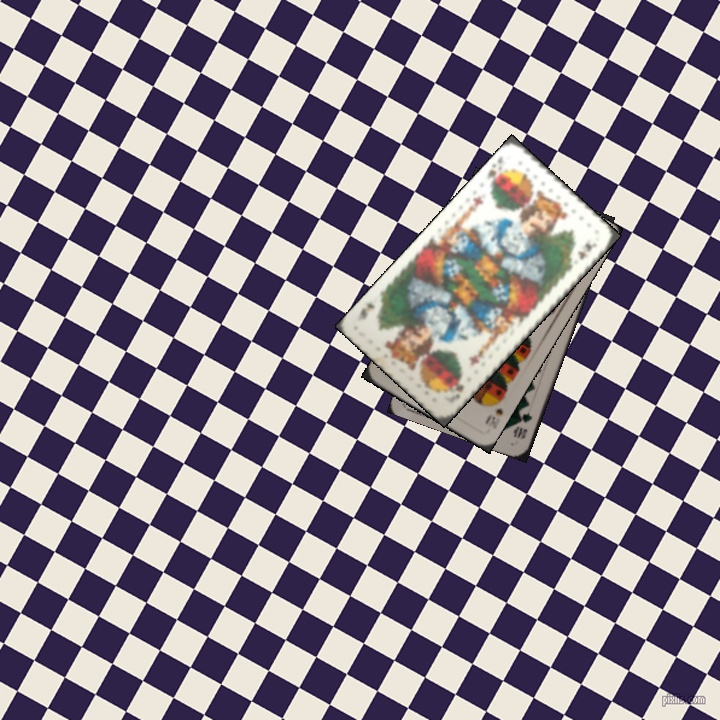G10: (510, 409, 535, 442)
S10: (481, 394, 506, 431)
SK: (483, 160, 501, 190), (448, 372, 467, 400)
